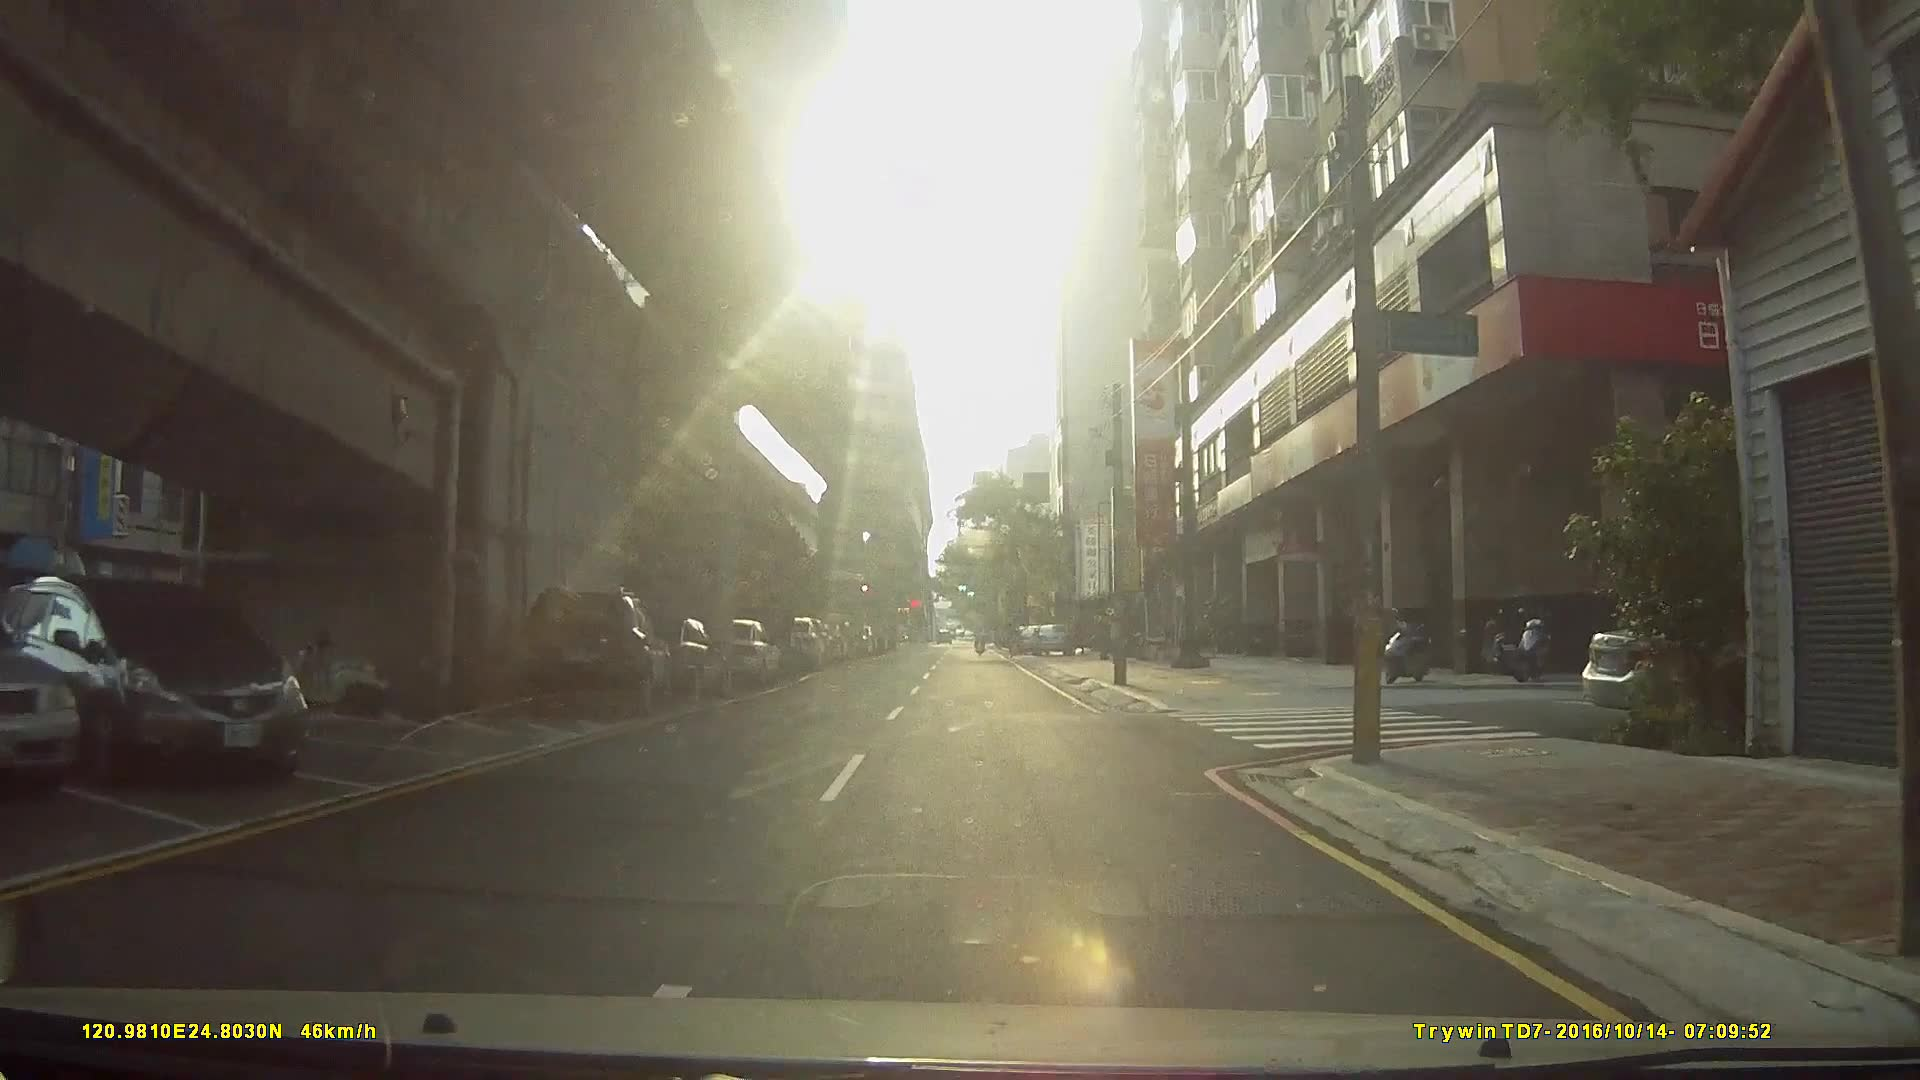vehicle: (0, 576, 311, 783), (512, 585, 673, 716), (0, 625, 82, 798), (700, 618, 781, 691), (1029, 621, 1072, 655)
